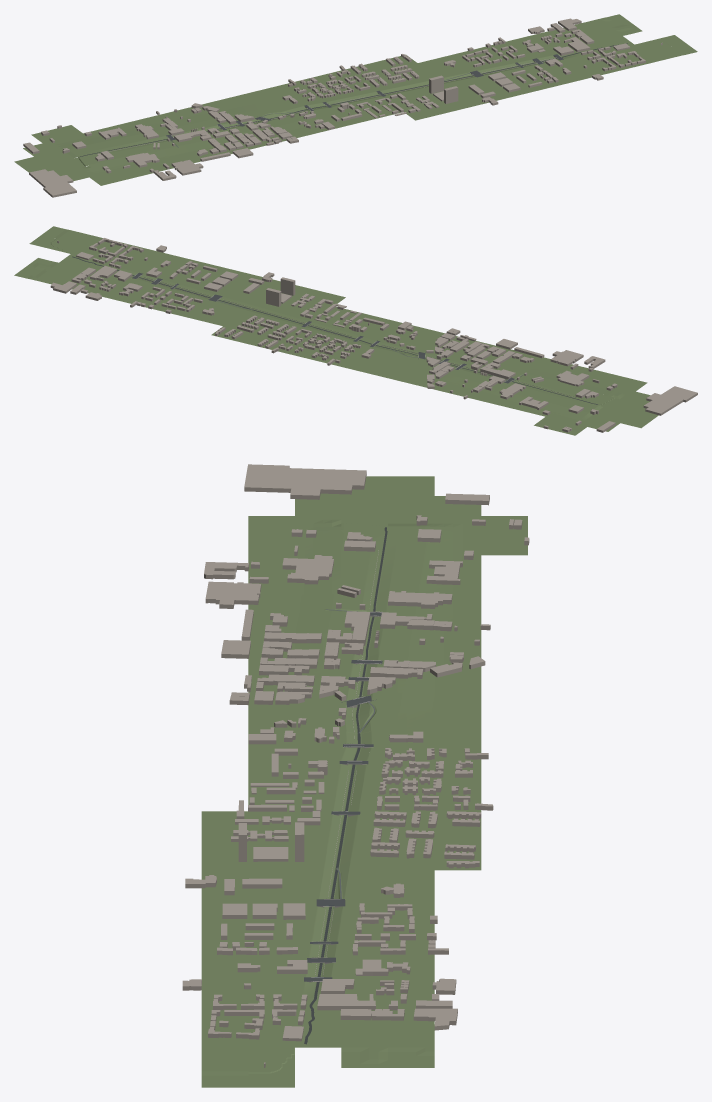
The model's file is DS_Dequindre_Geospatial_Level.fbx.
The picture shows the model from 3 angles, top to bottom: view 1: azimuth 30°, elevation 25°; view 2: azimuth 150°, elevation 25°; view 3: azimuth 270°, elevation 25°; orthographic projection. The views are drawn at different scales.
Visible parts, largest first — view 1: Building OSM 58828234, Dequindre Cut paved corridor, DFD Ladder No. 5/3rd battalion/Engine No. 6 OSM 59449689, DWSD Old Central Yard Warehouse OSM 59450015; view 2: Building OSM 58828234, Dequindre Cut paved corridor, DFD Ladder No. 5/3rd battalion/Engine No. 6 OSM 59449689, DWSD Old Central Yard Warehouse OSM 59450015; view 3: Building OSM 58828234, Dequindre Cut paved corridor, DFD Ladder No. 5/3rd battalion/Engine No. 6 OSM 59449689, DWSD Old Central Yard Warehouse OSM 59450015, Terrain -250 -1050, Terrain -150 -1050, Terrain -150 -1350, Terrain -150 -1450, Terrain 2450 -1150, Terrain -150 -1150, Terrain 1550 -1450, Terrain -250 -1150 (+10 smaller).
Boxes of the visible parts, left/top/right/bottom form: Building OSM 58828234: left=29, top=169, right=76, bottom=197; Dequindre Cut paved corridor: left=80, top=43, right=627, bottom=156; DFD Ladder No. 5/3rd battalion/Engine No. 6 OSM 59449689: left=171, top=160, right=203, bottom=175; DWSD Old Central Yard Warehouse OSM 59450015: left=125, top=153, right=159, bottom=167; Building OSM 58828234: left=643, top=386, right=697, bottom=415; Dequindre Cut paved corridor: left=72, top=256, right=597, bottom=404; DFD Ladder No. 5/3rd battalion/Engine No. 6 OSM 59449689: left=550, top=350, right=583, bottom=366; DWSD Old Central Yard Warehouse OSM 59450015: left=556, top=370, right=589, bottom=386; Building OSM 58828234: left=244, top=464, right=366, bottom=499; Dequindre Cut paved corridor: left=304, top=527, right=387, bottom=1044; DFD Ladder No. 5/3rd battalion/Engine No. 6 OSM 59449689: left=205, top=581, right=261, bottom=608; DWSD Old Central Yard Warehouse OSM 59450015: left=282, top=555, right=333, bottom=584; Terrain -250 -1050: left=201, top=1067, right=248, bottom=1087; Terrain -150 -1050: left=201, top=1047, right=248, bottom=1067; Terrain -150 -1350: left=341, top=1047, right=387, bottom=1067; Terrain -150 -1450: left=388, top=1047, right=434, bottom=1067; Terrain 2450 -1150: left=248, top=535, right=294, bottom=555; Terrain -150 -1150: left=248, top=1047, right=294, bottom=1067; Terrain 1550 -1450: left=388, top=712, right=434, bottom=732; Terrain -250 -1150: left=248, top=1067, right=294, bottom=1087.
Size of the model in its own units: 313996 by 6978 by 74366.
